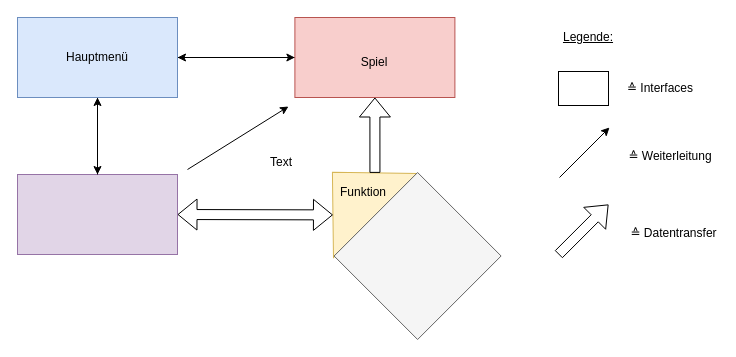
This 736x357 diagram has some shape labels left out. The shapes that lost their labels are listed below. From the top down, each one's box as (x1, y1, x2, y2) in pixels, then its label:
(16, 174, 178, 254): Einstellungen
(333, 172, 501, 340): Speicher
